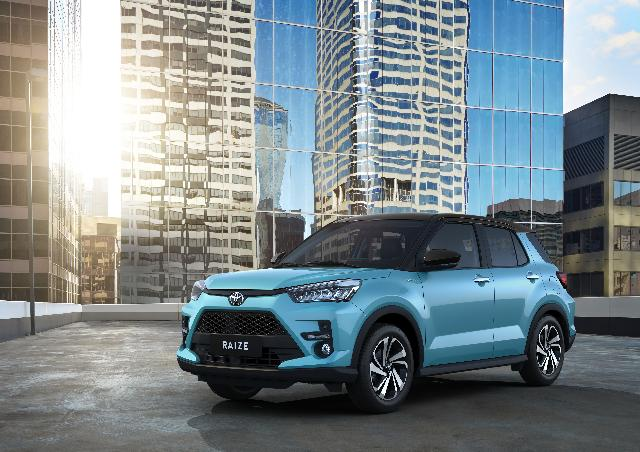toyota: (177, 212, 577, 412)
